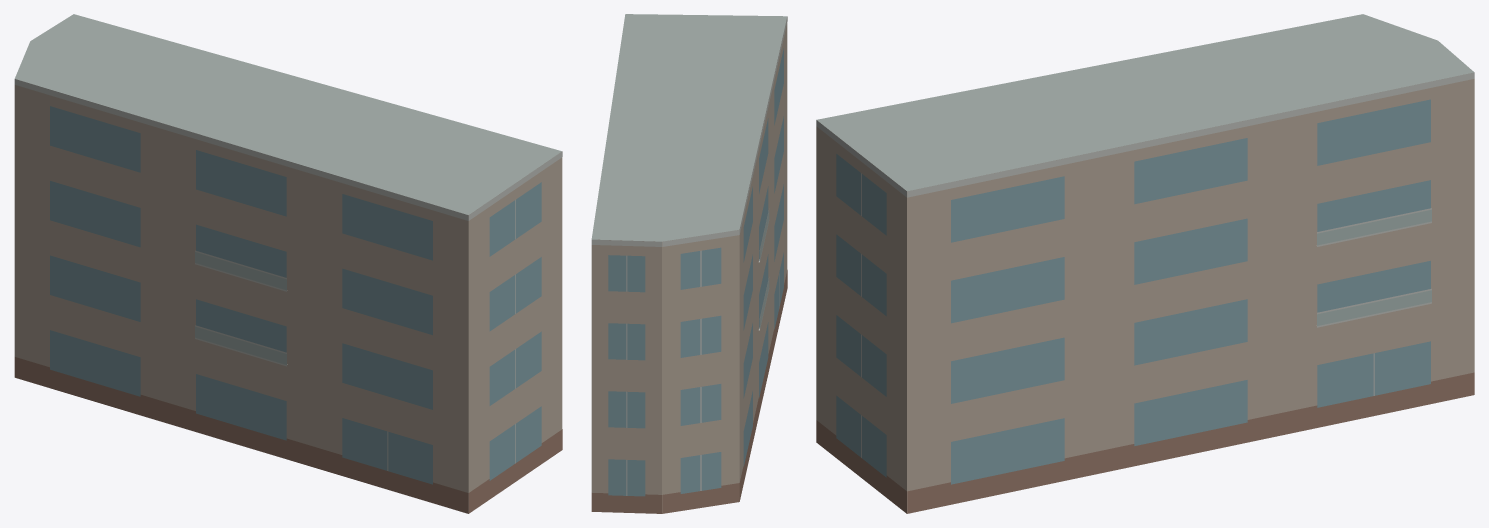
File: survey-upis-32695771.glb
3 views of the same model, side by side, from view 1: azimuth 30°, elevation 25°; view 2: azimuth 150°, elevation 25°; view 3: azimuth 270°, elevation 25° (orthographic). The views are drawn at different scales.
Parts seen in each view (by area): view 1: survey-upis-32695771.tmp; view 2: survey-upis-32695771.tmp; view 3: survey-upis-32695771.tmp.
Part boxes in pixels (x1=…): survey-upis-32695771.tmp: x1=14, y1=14, x2=562, y2=513; survey-upis-32695771.tmp: x1=591, y1=14, x2=787, y2=513; survey-upis-32695771.tmp: x1=816, y1=14, x2=1474, y2=513.
Size of the model in its own units: 14.63 by 12.4 by 22.95.
